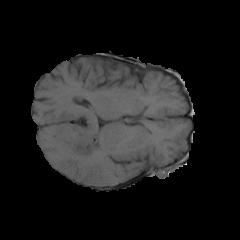glioma: (66, 126, 113, 157)
